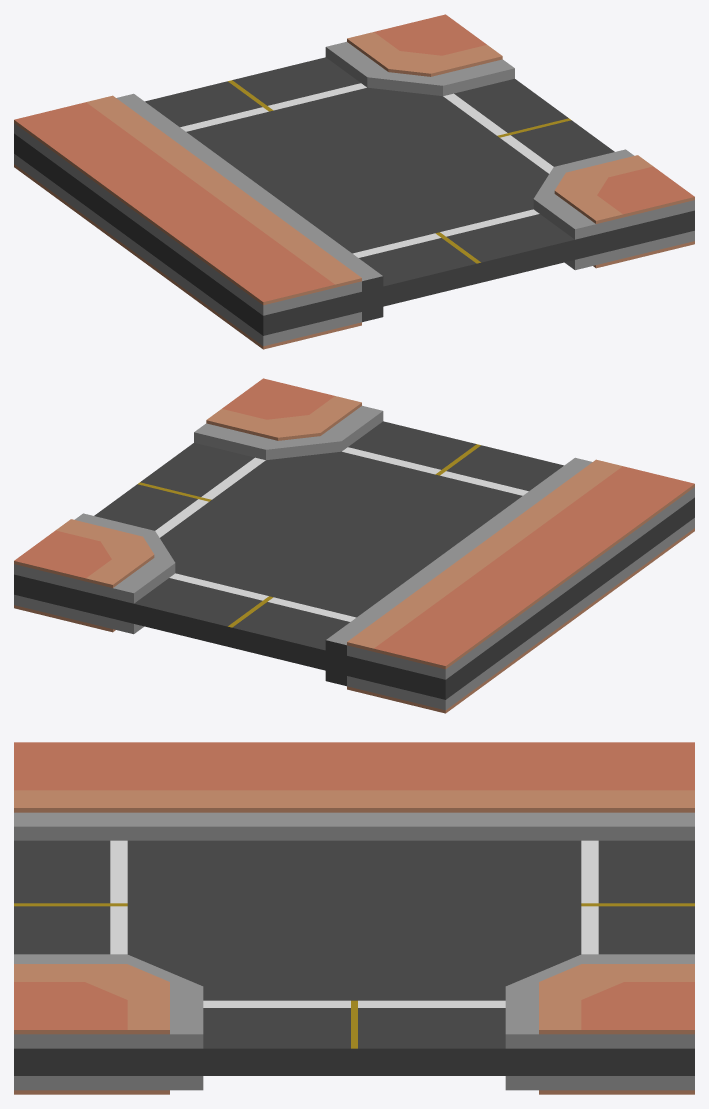
Rendered from Road 4.fbx.
The picture shows the model from 3 angles, top to bottom: view 1: azimuth 30°, elevation 25°; view 2: azimuth 150°, elevation 25°; view 3: azimuth 270°, elevation 25°; orthographic projection. The views are drawn at different scales.
Visible parts, largest first — view 1: Road 4; view 2: Road 4; view 3: Road 4.
Boxes of the visible parts, left/top/right/bottom form: Road 4: left=14, top=14, right=694, bottom=349; Road 4: left=14, top=378, right=694, bottom=713; Road 4: left=14, top=742, right=694, bottom=1094.
Size of the model in its own units: 12.36 by 12.36 by 1.3.
